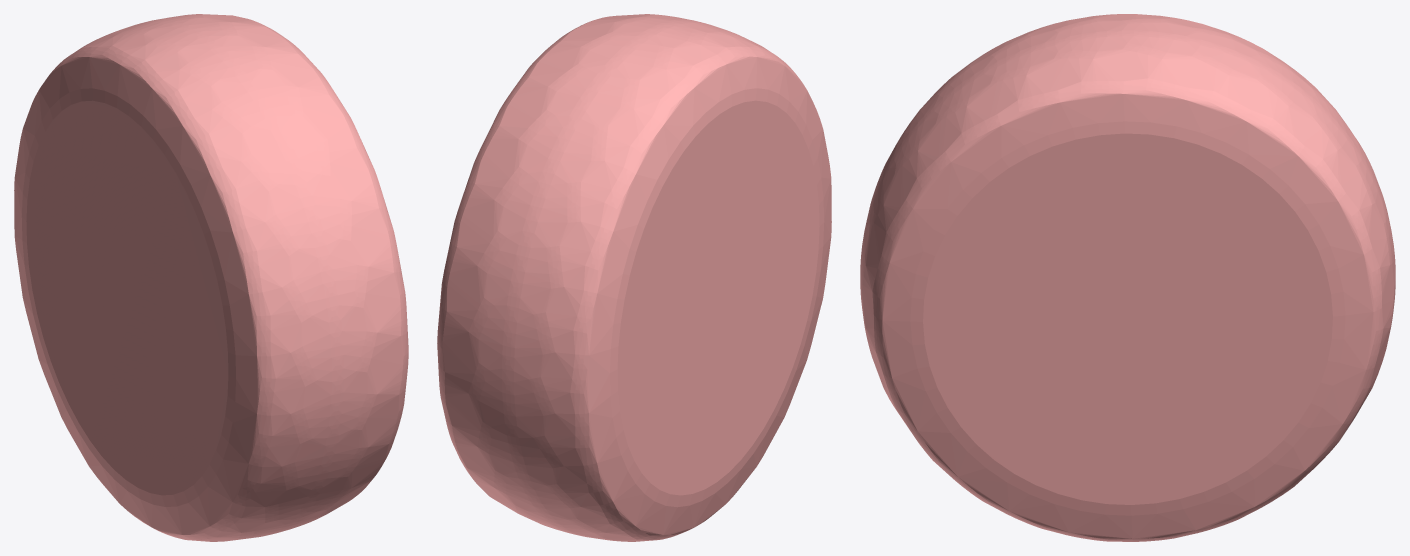
The model's file is rambler_Rueda1dyn_coll_1.dae.
3 renders of one model, left to right at view 1: azimuth 30°, elevation 25°; view 2: azimuth 150°, elevation 25°; view 3: azimuth 270°, elevation 25°, orthographic.
Parts seen in each view (by area): view 1: Node_0x7fe0fc4d5380; view 2: Node_0x7fe0fc4d5380; view 3: Node_0x7fe0fc4d5380.
Part boxes in pixels (x1,y1,x2,y2): Node_0x7fe0fc4d5380: (14, 14, 408, 541); Node_0x7fe0fc4d5380: (437, 14, 831, 541); Node_0x7fe0fc4d5380: (860, 14, 1395, 541).
Bounding box in the file's own units: 0.1941 × 0.5333 × 0.5333.
